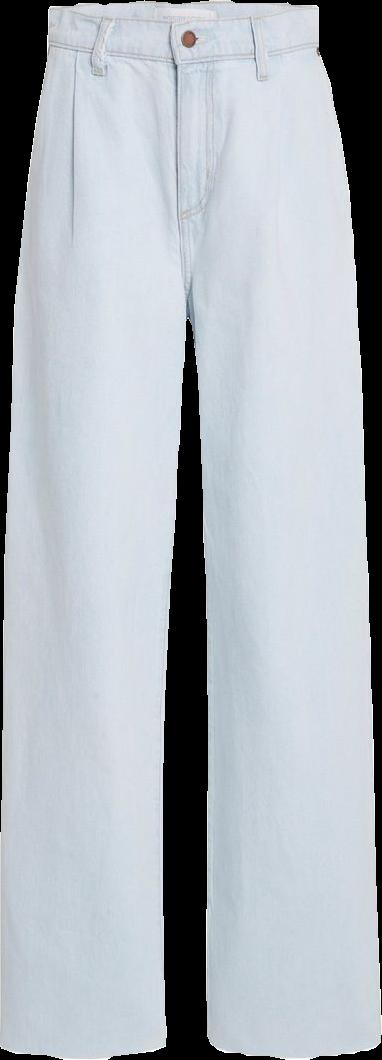Hemline: (206, 1036, 381, 1058), (0, 1040, 171, 1059)
Pantleg: (168, 0, 381, 1057), (0, 3, 192, 1058)
Waistline: (43, 39, 322, 68), (48, 0, 315, 24)
